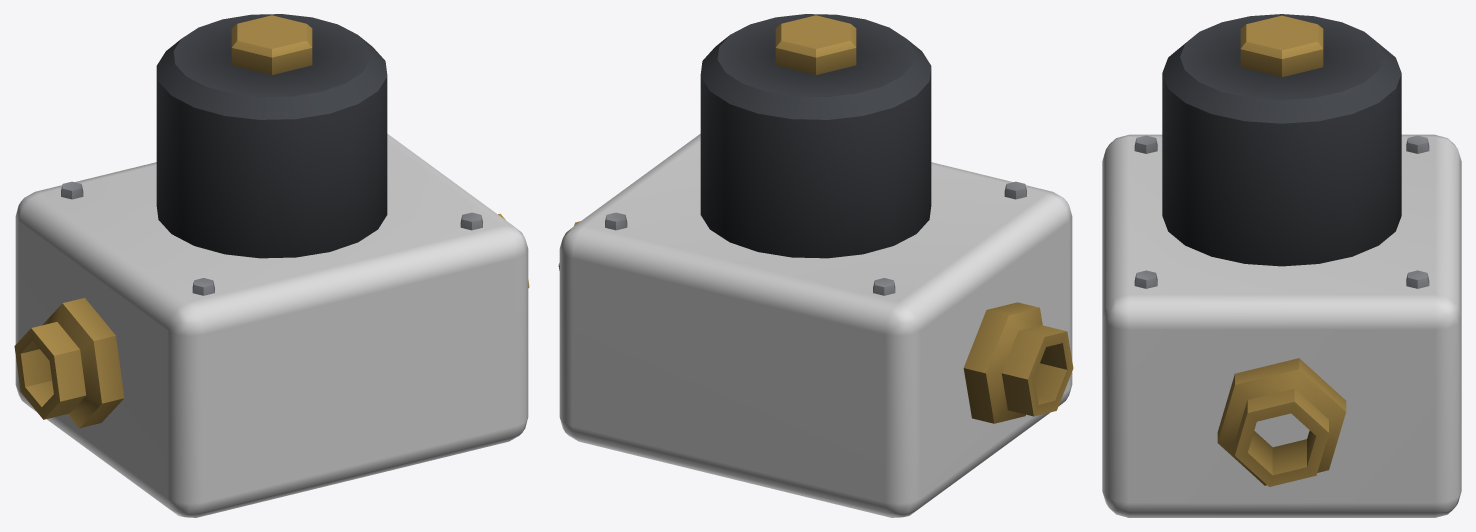
Rendered from inyector.glb.
3 views of the same model, side by side, from view 1: azimuth 30°, elevation 25°; view 2: azimuth 150°, elevation 25°; view 3: azimuth 270°, elevation 25° (orthographic). The views are drawn at different scales.
Parts seen in each view (by area): view 1: cuerpo; view 2: cuerpo; view 3: cuerpo.
Part boxes in pixels (x1,y1,x2,y2): cuerpo: (14,14,529,517); cuerpo: (558,14,1073,517); cuerpo: (1102,14,1461,517).
Size of the model in its own units: 0.252 by 0.201 by 0.162.
